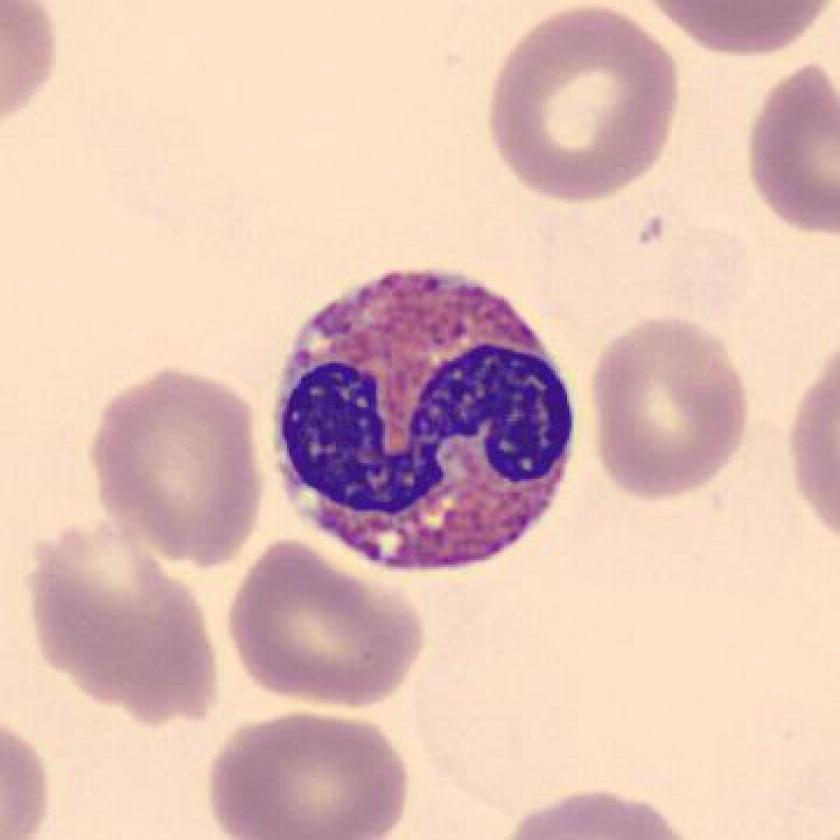eosinophil: (269, 253, 587, 591)
